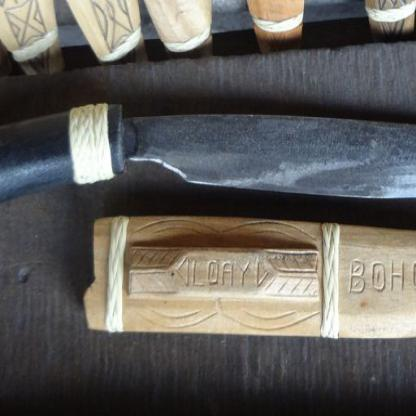knife: (0, 98, 415, 266)
